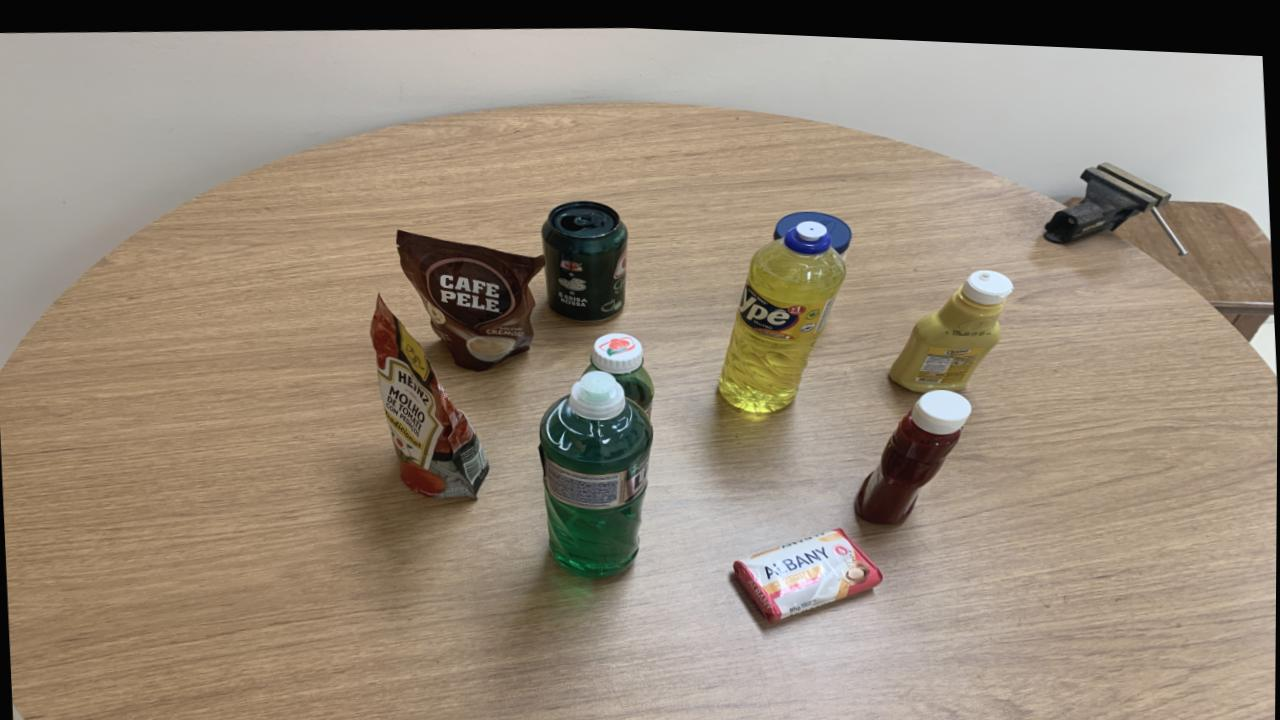Coffee-Pantry_Items: (396, 227, 545, 366)
Detergent-Cleanup_Items: (718, 212, 845, 405), (540, 364, 653, 573)
Guarana-Drinks: (587, 326, 653, 408)
Guarana_Can-Drinks: (541, 195, 628, 316)
Ketchup-Pantry_Items: (855, 381, 971, 515)
Mayonnaise-Pantry_Items: (773, 205, 851, 246)
Mustard-Pantry_Items: (889, 260, 1013, 385)
Soap-Cleanup_Items: (734, 521, 882, 613)
Tomato_Sauce-Pantry_Items: (370, 293, 489, 495)
